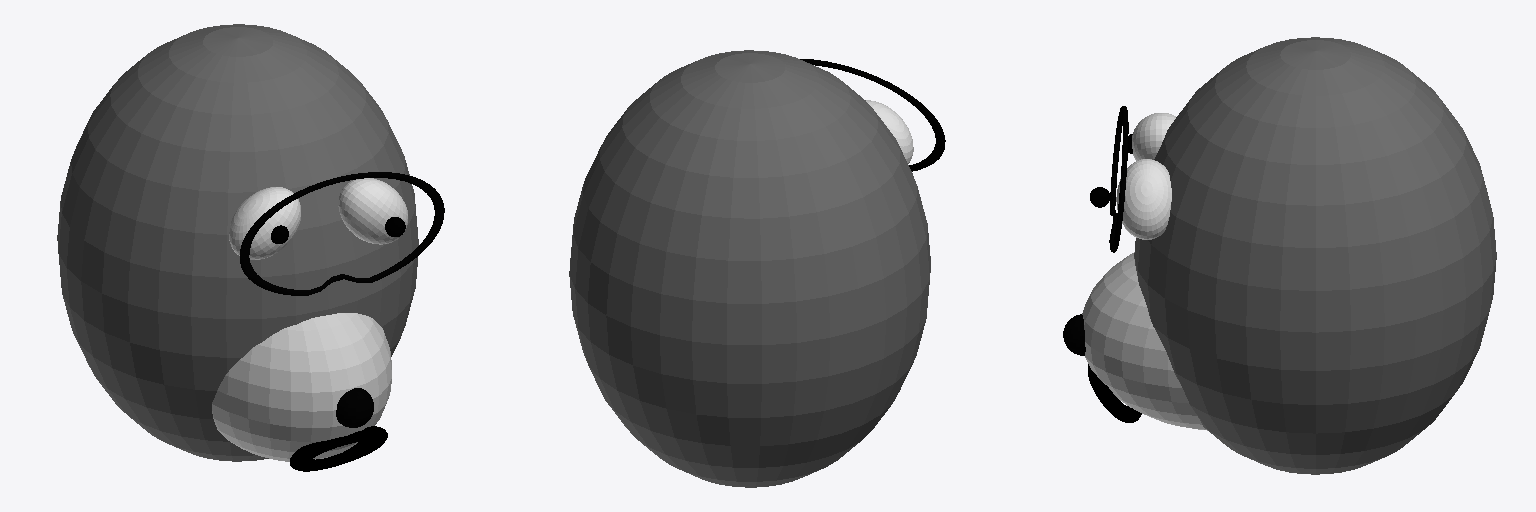
The model's file is Bear_Head2.obj.
The picture shows the model from 3 angles: view 1: azimuth 30°, elevation 25°; view 2: azimuth 150°, elevation 25°; view 3: azimuth 270°, elevation 25°; orthographic projection.
Parts seen in each view (by area): view 1: Sphere.001, Sphere.002_Sphere.010, Torus.003, Sphere.004_Sphere.016, Sphere.003_Sphere.020, Torus.001, Sphere.011_Sphere.017; view 2: Sphere.001, Torus.003, Sphere.003_Sphere.020; view 3: Sphere.001, Sphere.002_Sphere.010, Sphere.004_Sphere.016, Torus.003, Sphere.003_Sphere.020, Torus.001, Sphere.011_Sphere.017.
Boxes of the visible parts, <box> form: Sphere.001: <box>57,24,418,461</box>; Sphere.002_Sphere.010: <box>212,313,391,461</box>; Torus.003: <box>240,172,444,295</box>; Sphere.004_Sphere.016: <box>338,178,407,244</box>; Sphere.003_Sphere.020: <box>229,187,300,259</box>; Torus.001: <box>290,426,387,471</box>; Sphere.011_Sphere.017: <box>336,388,373,427</box>; Sphere.001: <box>569,50,930,487</box>; Torus.003: <box>800,59,945,171</box>; Sphere.003_Sphere.020: <box>866,100,913,163</box>; Sphere.001: <box>1134,37,1496,474</box>; Sphere.002_Sphere.010: <box>1082,252,1207,430</box>; Sphere.004_Sphere.016: <box>1116,159,1171,239</box>; Torus.003: <box>1109,106,1128,252</box>; Sphere.003_Sphere.020: <box>1132,113,1175,160</box>; Torus.001: <box>1088,364,1141,422</box>; Sphere.011_Sphere.017: <box>1063,314,1085,355</box>.
Size of the model in its own units: 1.2 by 1.5 by 1.44.